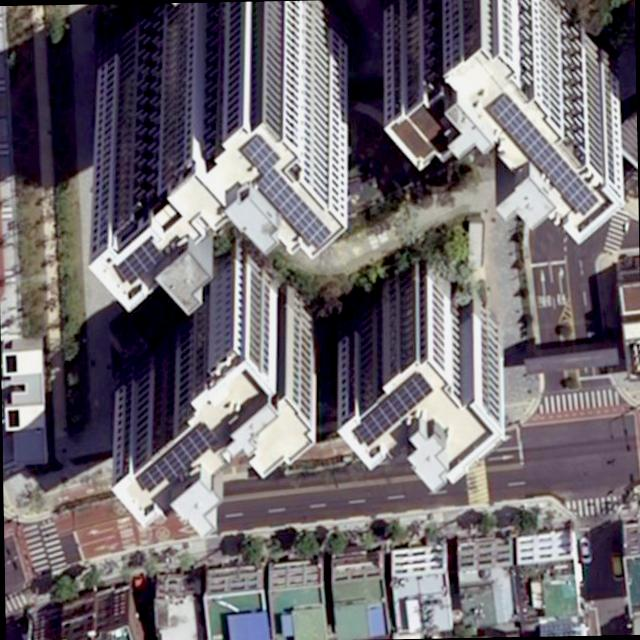solar: (480, 89, 601, 219), (246, 167, 332, 250), (134, 420, 222, 492), (354, 371, 435, 446), (114, 238, 166, 286), (235, 132, 282, 172)
